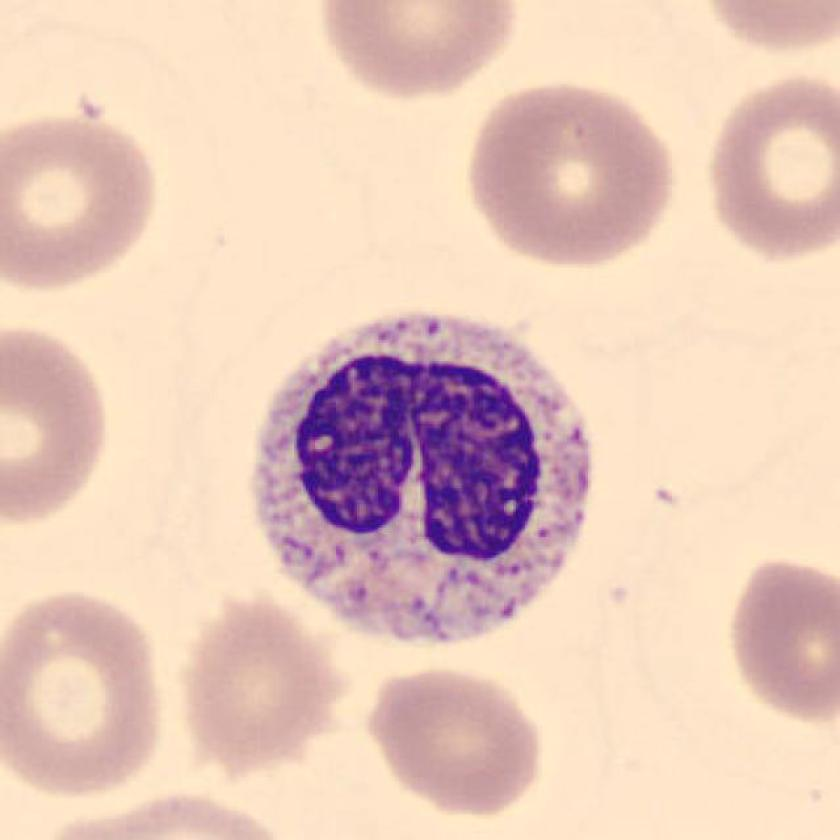neutrophil: (254, 310, 593, 646)
